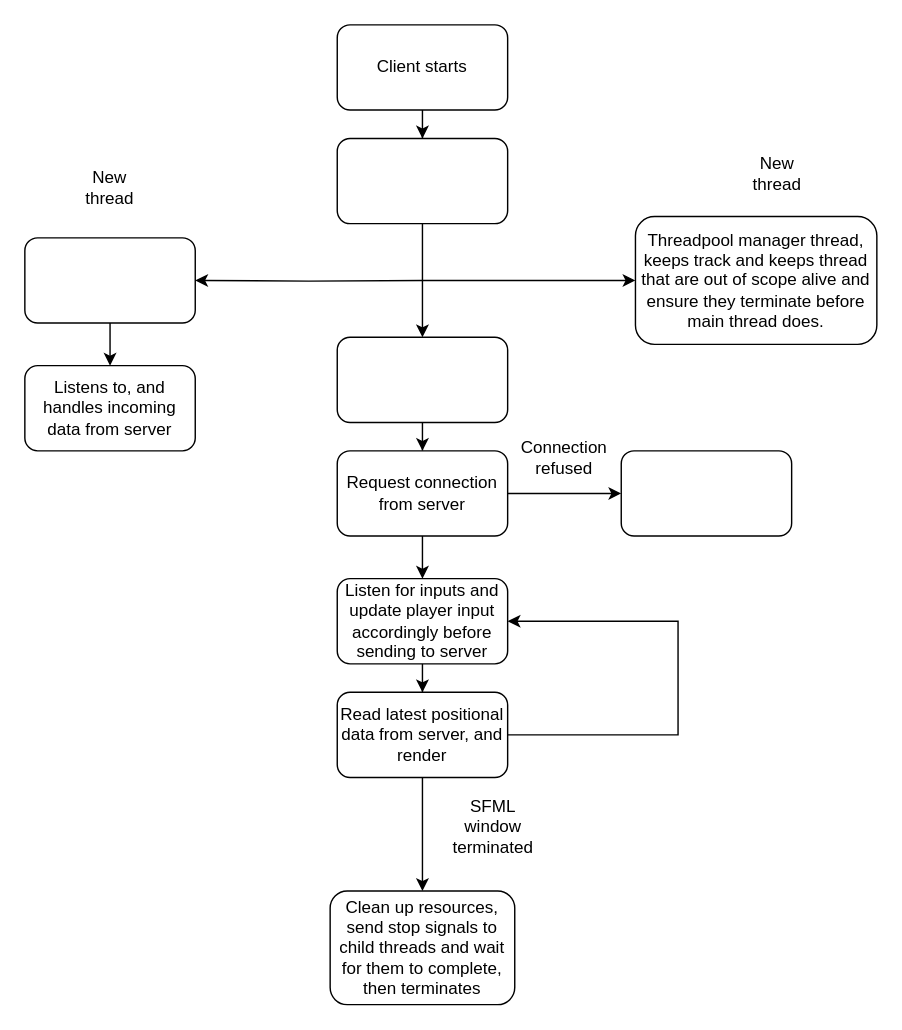
Some shapes in this 902 by 1030 pixel diagram are drawn without their labels. Here are the shapes that lost their labels. From the top down, the centre of each, then its label:
the point at 422,180: Winsock initialization
the point at 109,279: Listener thread startup
the point at 422,379: Create SFML window
the point at 706,492: Wait for all threads to complete and terminate
